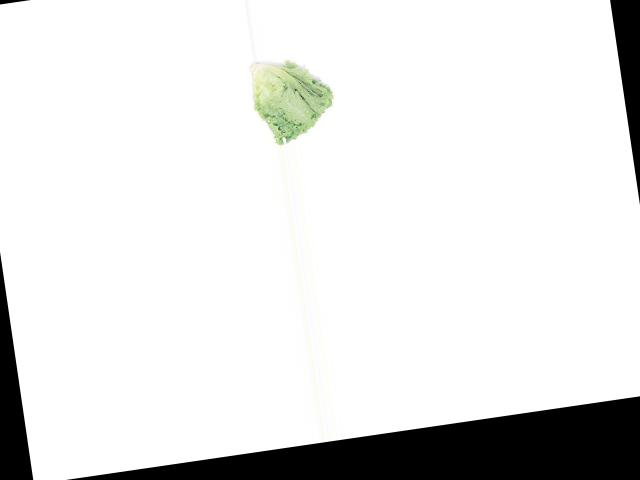lettuce: (240, 48, 346, 148)
